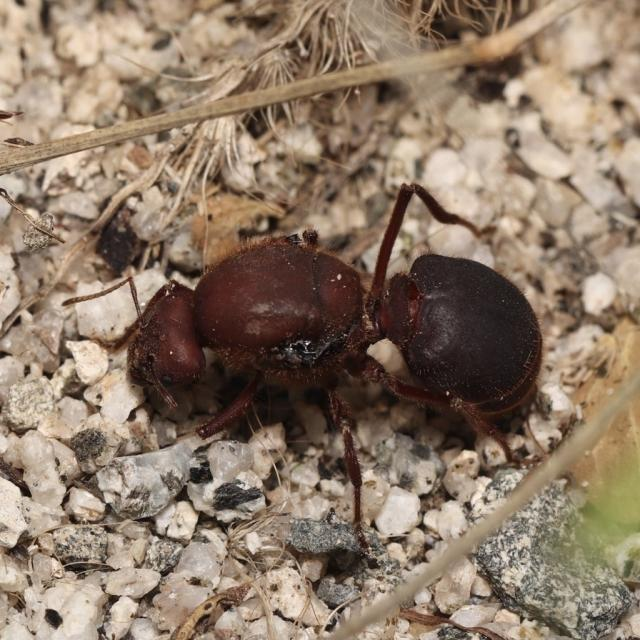Alive-Female-Dealate: (61, 182, 544, 567)
